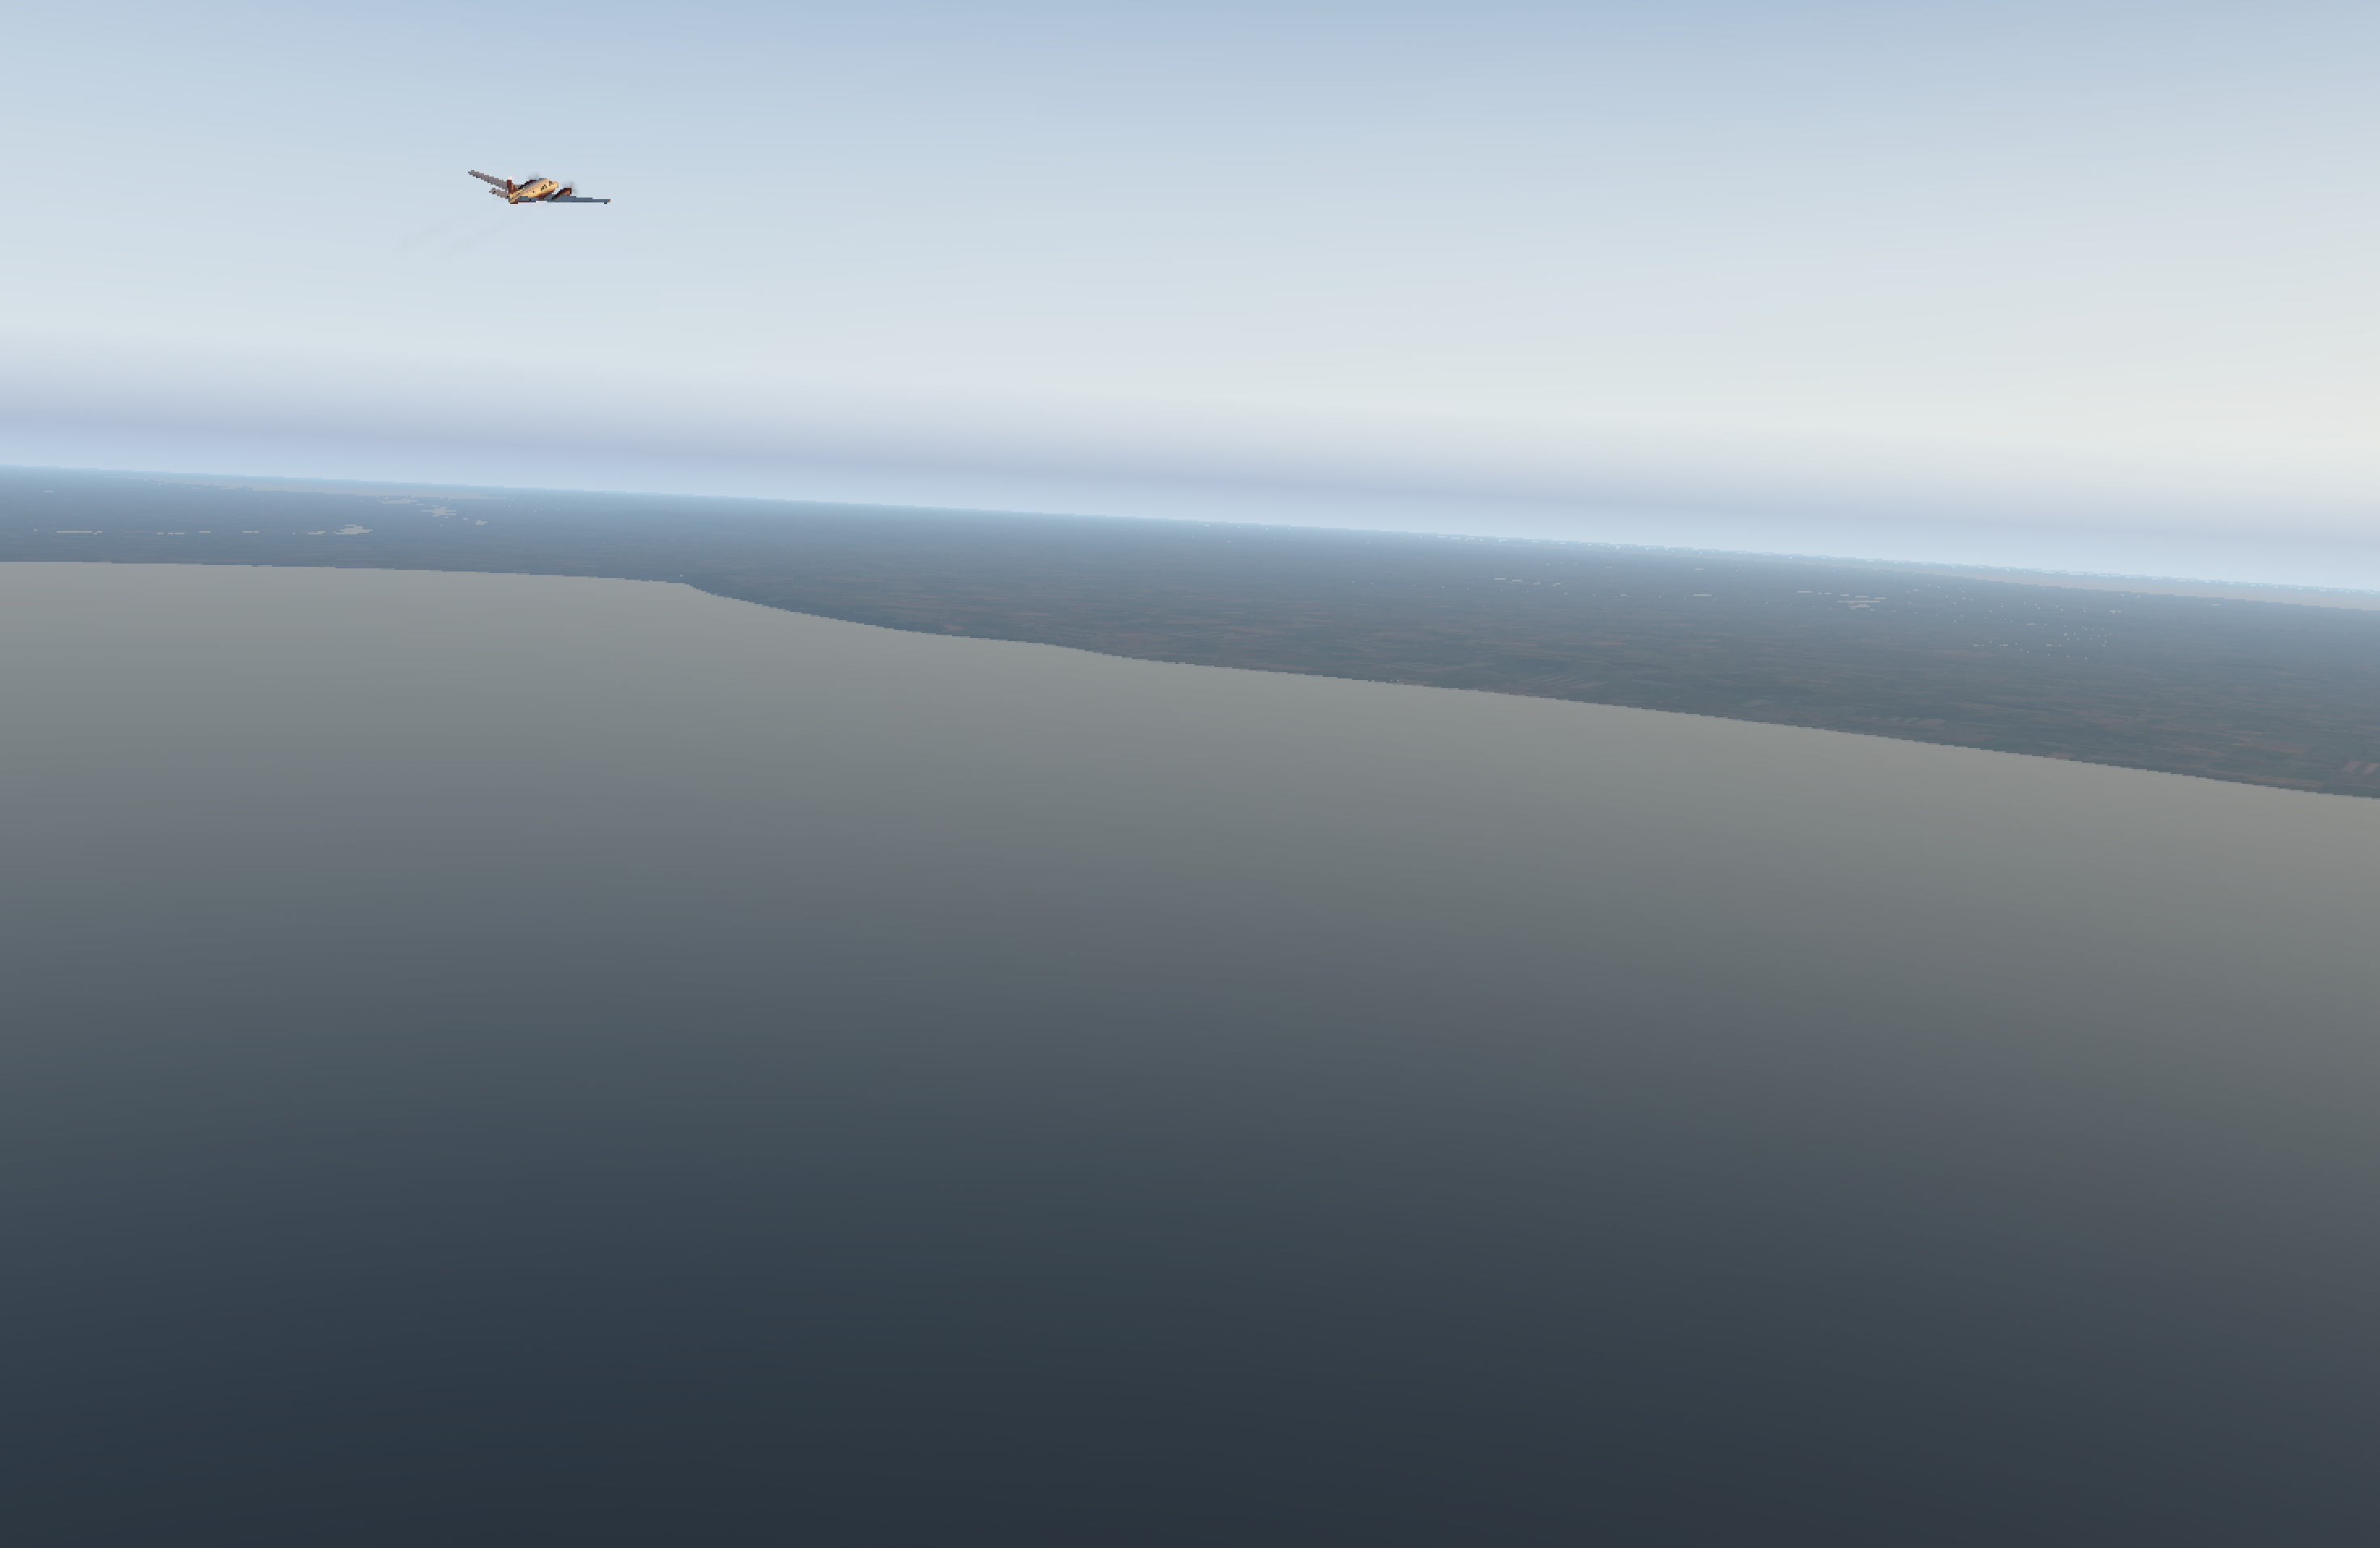aircraft: (472, 168, 611, 220)
